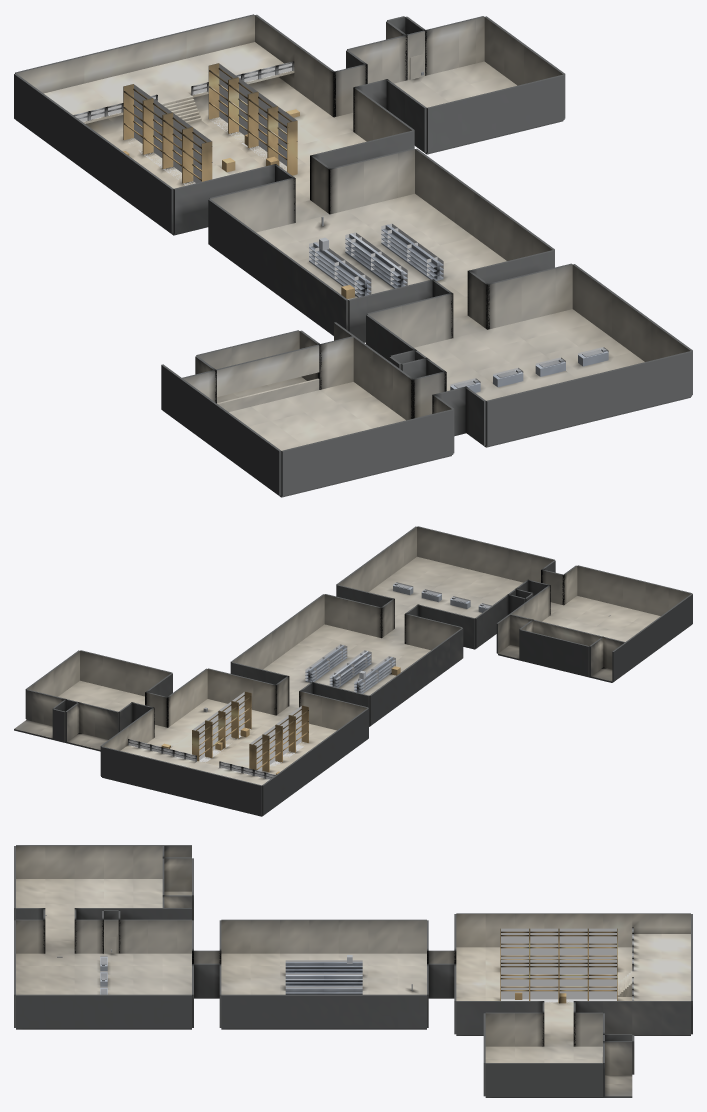
Rendered from hypermarche_complet.glb.
The picture shows the model from 3 angles, top to bottom: view 1: azimuth 30°, elevation 25°; view 2: azimuth 150°, elevation 25°; view 3: azimuth 270°, elevation 25°; orthographic projection. The views are drawn at different scales.
Visible parts, largest first — view 1: vitrine_high, kit_wall_4m.004, kit_wall_4m.028, kit_wall_4m.096, kit_wall_4m.049, kit_wall_4m.067, kit_wall_4m.031, kit_wall_4m.017, kit_wall_4m.001, kit_wall_4m.026, kit_wall_4m.032, kit_wall_4m.093 (+81 smaller); view 2: vitrine_high, kit_wall_4m.018, kit_wall_4m.045, kit_wall_4m.072, kit_wall_4m.074, kit_wall_4m.071, kit_wall_4m.070, kit_wall_4m.073, kit_wall_4m.026, kit_wall_4m.043, kit_wall_4m.046, kit_wall_4m.068 (+34 smaller); view 3: col_box_rack_4m.005, kit_wall_4m.055, kit_wall_4m.060, kit_wall_4m.038, kit_wall_4m.041, kit_wall_4m.051, kit_wall_4m.054, kit_wall_4m.056, kit_wall_4m.059, kit_wall_4m.061, kit_wall_4m.064, kit_wall_4m.078 (+55 smaller).
Boxes of the visible parts, x1=… form: vitrine_high: x1=216, y1=344, x2=319, y2=396; kit_wall_4m.004: x1=281, y1=442, x2=316, y2=496; kit_wall_4m.028: x1=486, y1=392, x2=521, y2=446; kit_wall_4m.096: x1=427, y1=99, x2=462, y2=153; kit_wall_4m.049: x1=328, y1=160, x2=363, y2=214; kit_wall_4m.067: x1=173, y1=180, x2=208, y2=234; kit_wall_4m.031: x1=486, y1=276, x2=521, y2=329; kit_wall_4m.017: x1=318, y1=336, x2=353, y2=389; kit_wall_4m.001: x1=384, y1=417, x2=419, y2=471; kit_wall_4m.026: x1=554, y1=376, x2=589, y2=429; kit_wall_4m.032: x1=520, y1=267, x2=555, y2=321; kit_wall_4m.093: x1=529, y1=74, x2=564, y2=128; vitrine_high: x1=533, y1=620, x2=602, y2=645; kit_wall_4m.018: x1=565, y1=640, x2=589, y2=676; kit_wall_4m.045: x1=324, y1=594, x2=347, y2=629; kit_wall_4m.072: x1=215, y1=774, x2=238, y2=809; kit_wall_4m.074: x1=169, y1=763, x2=192, y2=798; kit_wall_4m.071: x1=238, y1=780, x2=261, y2=815; kit_wall_4m.070: x1=253, y1=679, x2=276, y2=715; kit_wall_4m.073: x1=192, y1=768, x2=215, y2=804; kit_wall_4m.026: x1=485, y1=543, x2=508, y2=578; kit_wall_4m.043: x1=404, y1=613, x2=427, y2=649; kit_wall_4m.046: x1=347, y1=599, x2=370, y2=635; kit_wall_4m.068: x1=207, y1=668, x2=230, y2=703; col_box_rack_4m.005: x1=530, y1=959, x2=558, y2=1003; kit_wall_4m.055: x1=338, y1=919, x2=368, y2=953; kit_wall_4m.060: x1=338, y1=994, x2=368, y2=1028; kit_wall_4m.038: x1=133, y1=994, x2=162, y2=1028; kit_wall_4m.041: x1=45, y1=994, x2=74, y2=1028; kit_wall_4m.051: x1=221, y1=919, x2=250, y2=953; kit_wall_4m.054: x1=309, y1=919, x2=338, y2=953; kit_wall_4m.056: x1=368, y1=919, x2=397, y2=953; kit_wall_4m.059: x1=368, y1=994, x2=397, y2=1028; kit_wall_4m.061: x1=309, y1=994, x2=338, y2=1028; kit_wall_4m.064: x1=221, y1=994, x2=250, y2=1028; kit_wall_4m.078: x1=456, y1=913, x2=485, y2=947.
Size of the model in its own units: 70.5 by 6.25 by 92.5.
